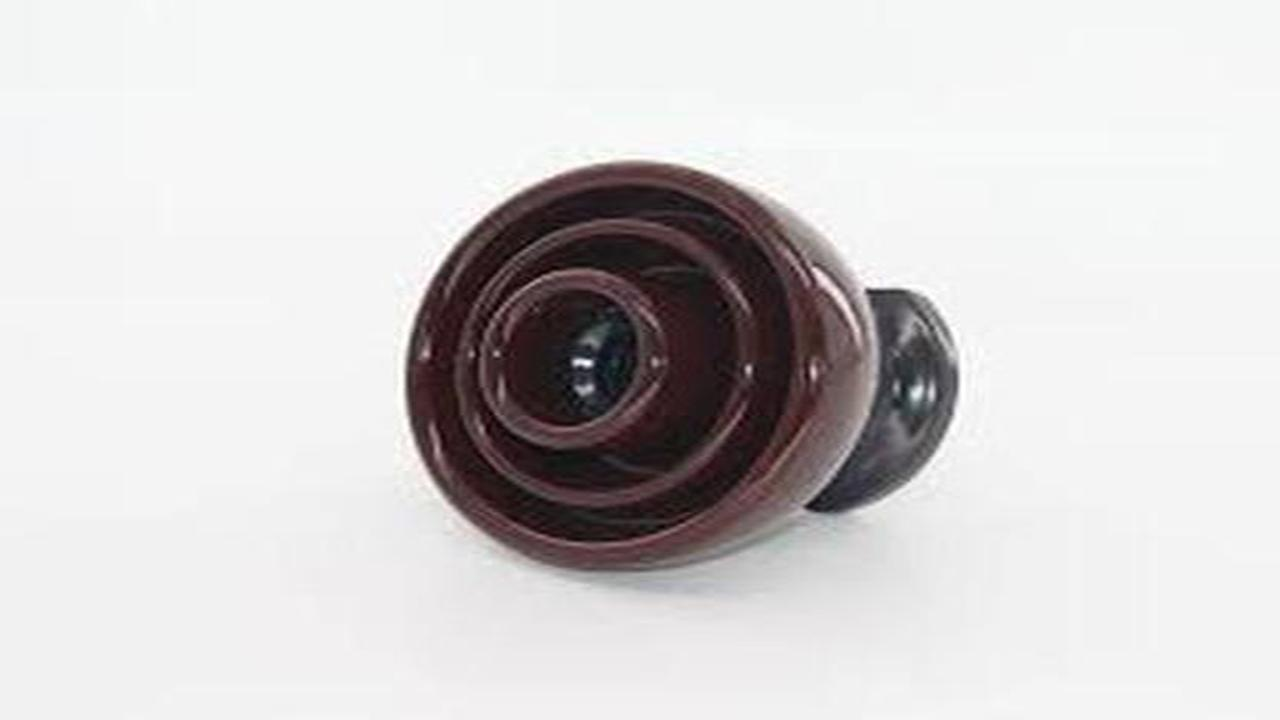insulator_pin: (341, 156, 1053, 586)
